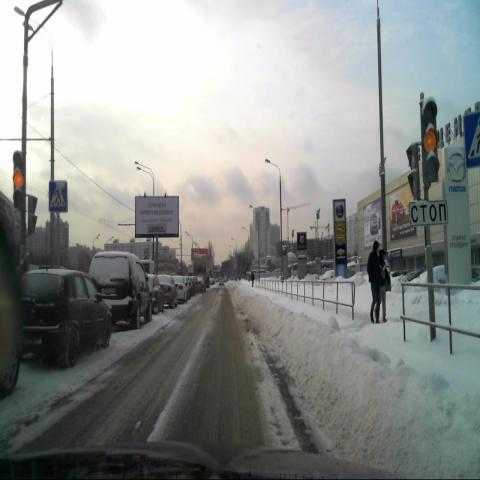5_19_1: (49, 182, 68, 214)
6_16: (410, 204, 449, 226)
